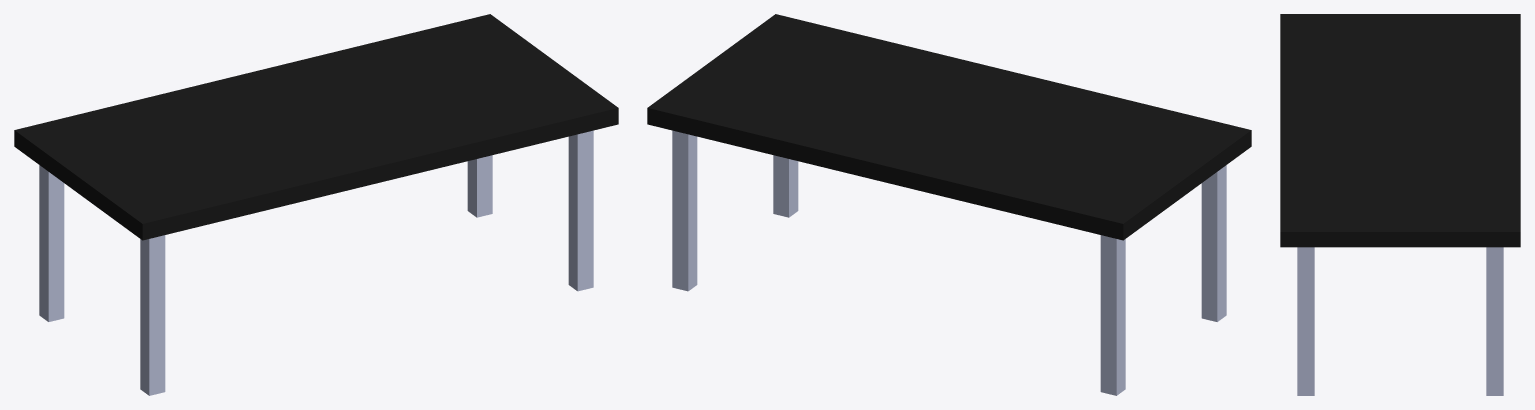
Rendered from Table.glb.
3 views of the same model, side by side, from view 1: azimuth 30°, elevation 25°; view 2: azimuth 150°, elevation 25°; view 3: azimuth 270°, elevation 25° (orthographic). The views are drawn at different scales.
Visible parts, largest first — view 1: color, color-2; view 2: color, color-2; view 3: color, color-2.
Part boxes in pixels (<box>): color: <box>14,14,618,240</box>; color-2: <box>39,130,593,395</box>; color: <box>647,14,1251,240</box>; color-2: <box>672,130,1226,395</box>; color: <box>1280,14,1520,247</box>; color-2: <box>1297,247,1503,395</box>.
Bounding box in the file's own units: 1.5 × 0.55 × 0.7.
